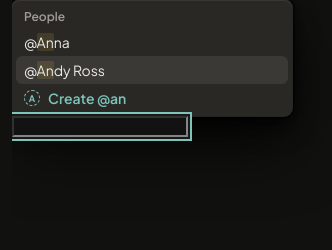
Scenario: NlpPopup — a person’s / tag’s menu on its rows › Shift+F10 / the context-menu key in the field opens the active row’s menu; a right-click on the field doesn’t
Right-click the field: (100, 126) x1=12 y1=116 x2=188 y2=137
Right-click the field: (100, 126) x1=12 y1=116 x2=188 y2=137
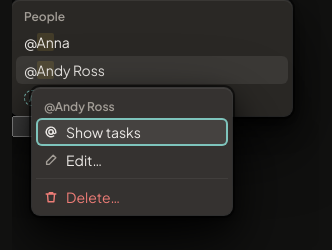
Now the menu "@Andy Ross" is shown, box x1=32 y1=88 x2=232 y2=215
